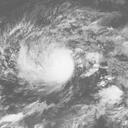cyclone: (29, 42, 75, 85)
